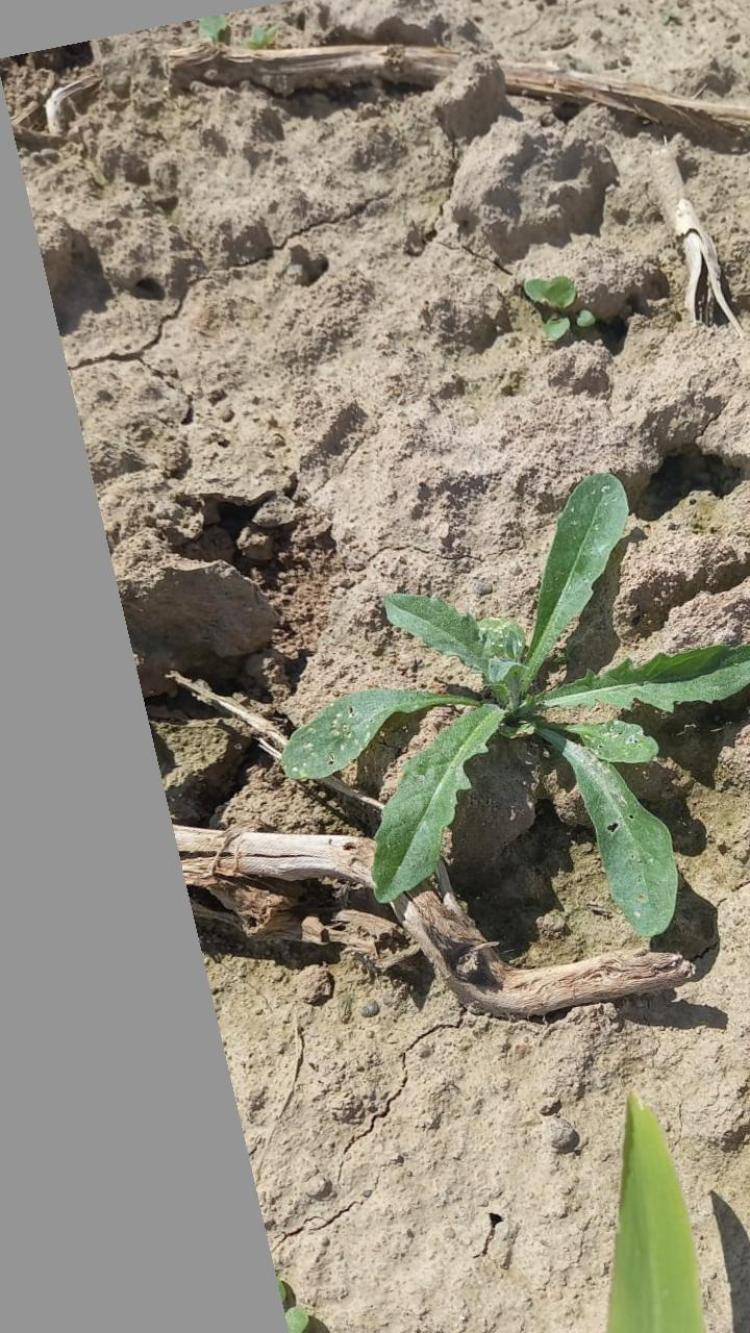osot: (277, 456, 750, 942)
